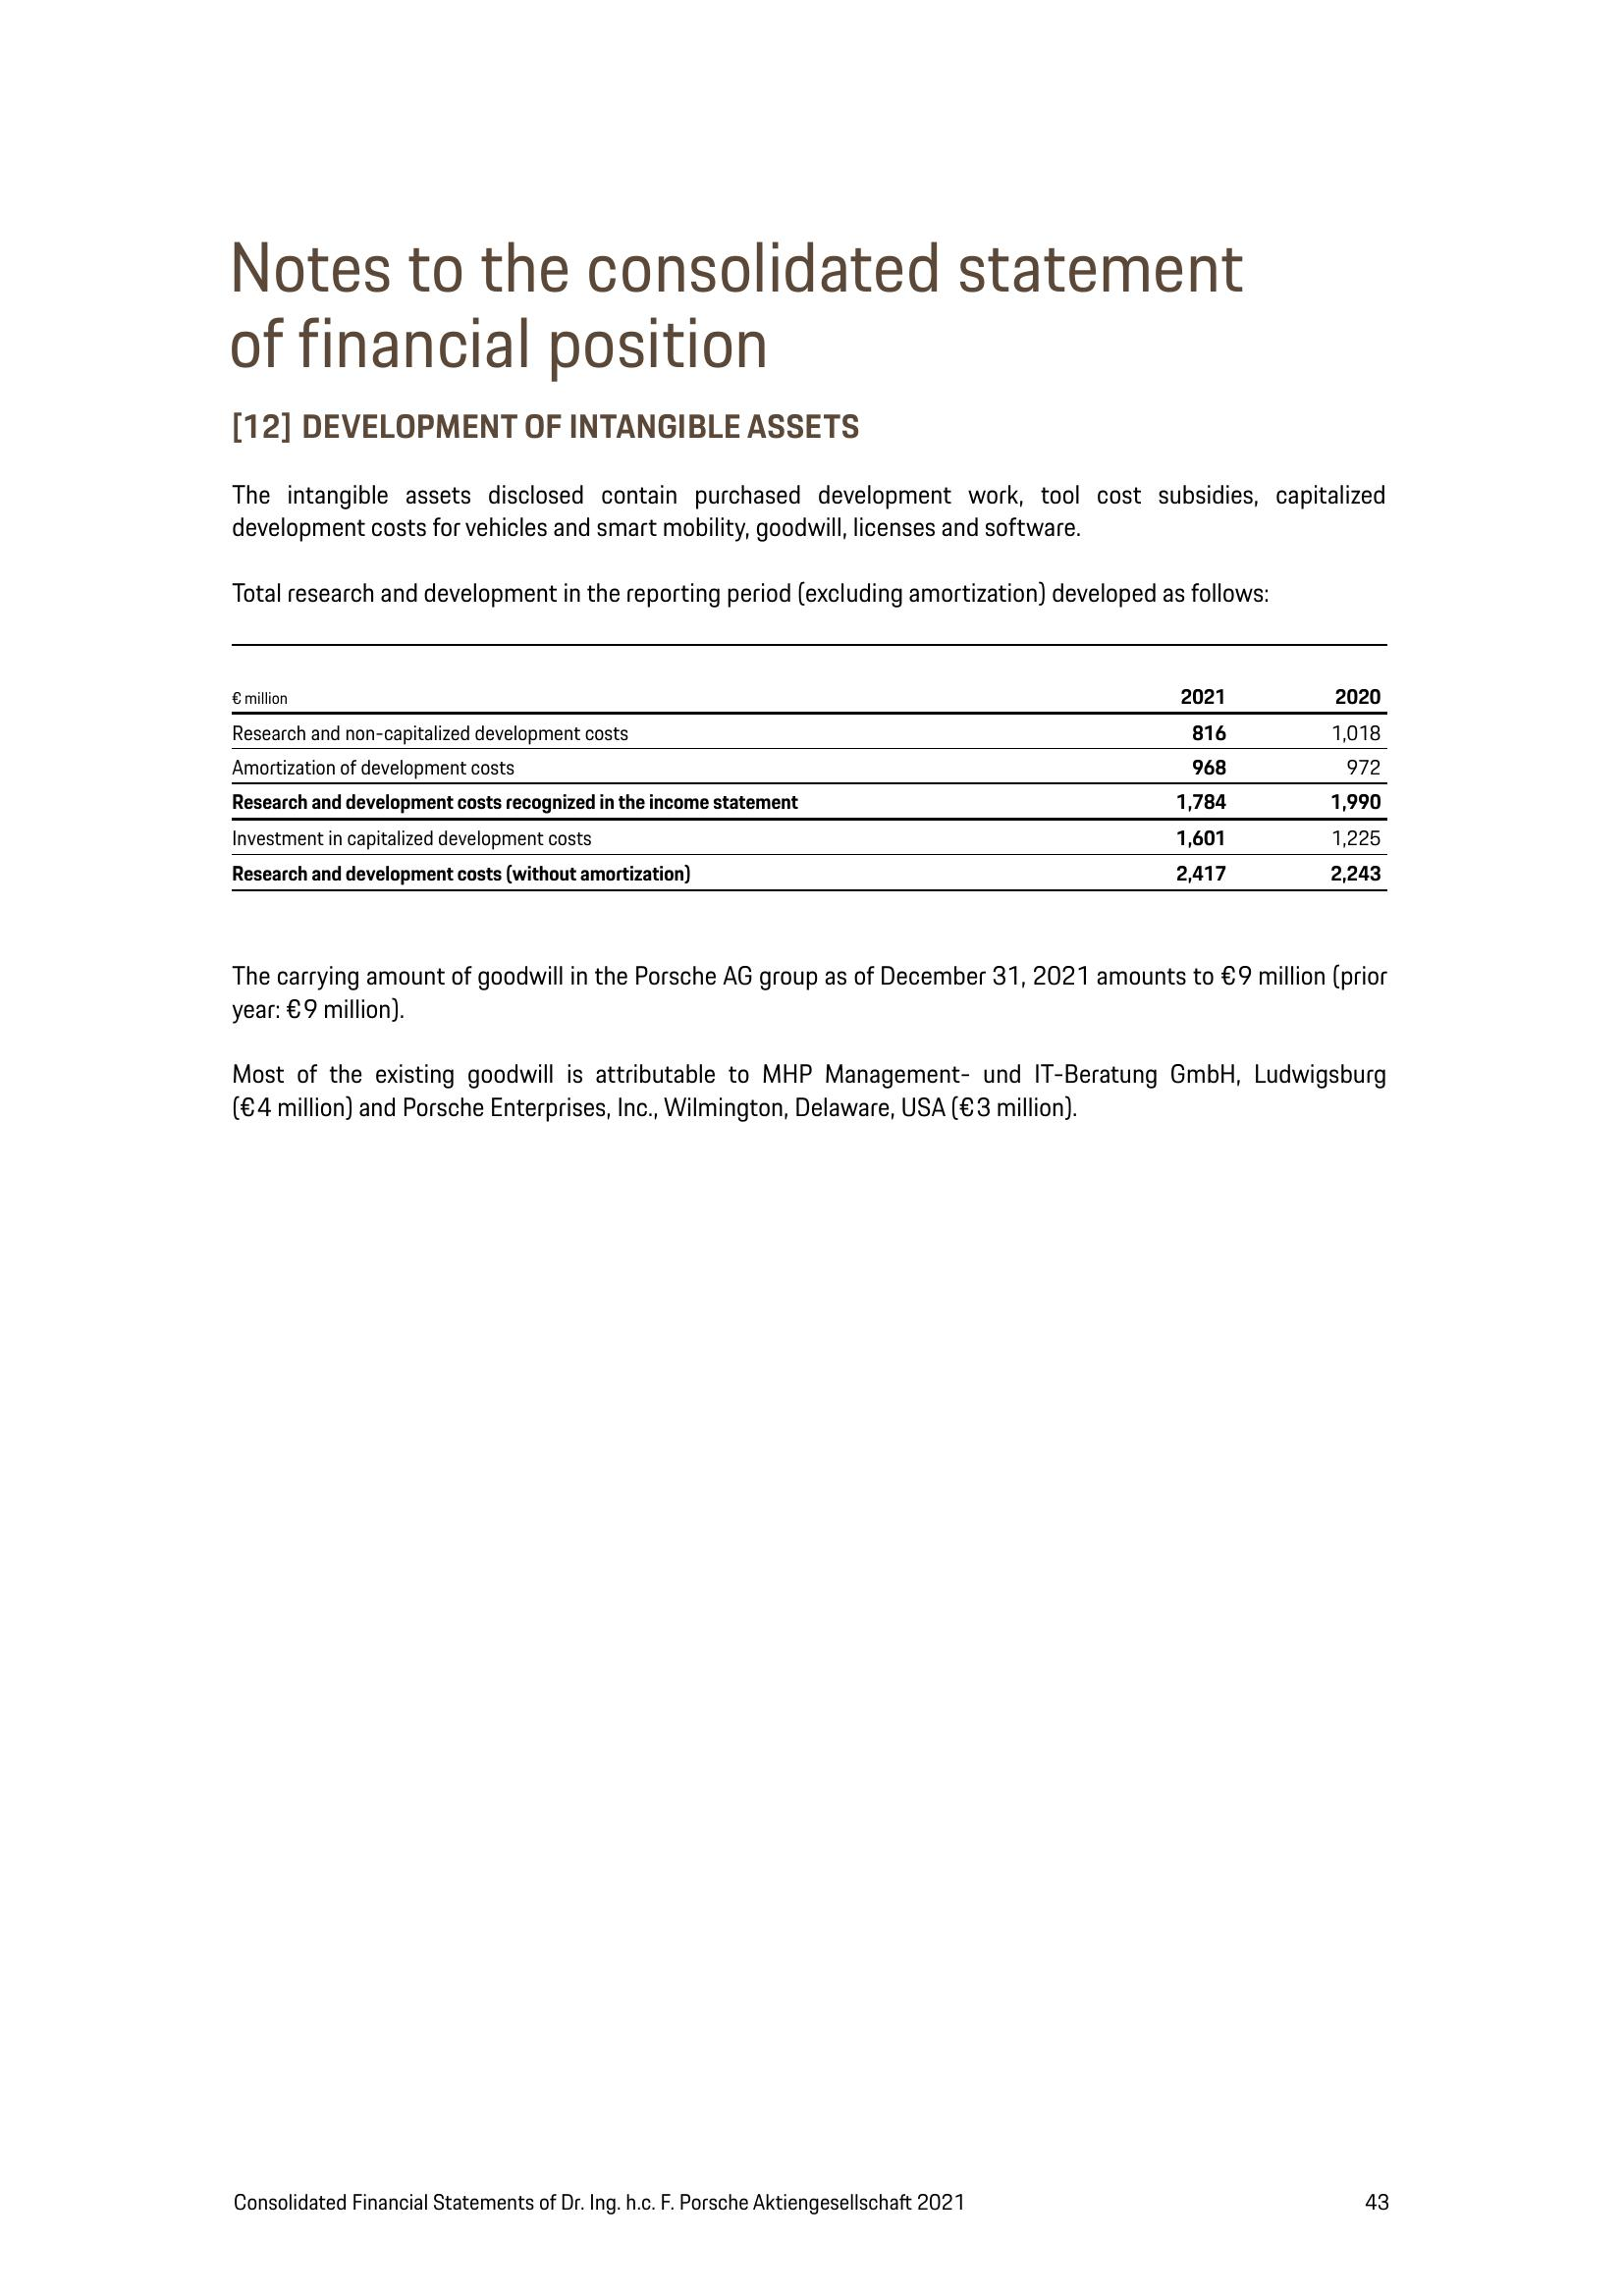Footer: (0, 2148, 1624, 2296)
Header: (0, 0, 1624, 183)
Table: (181, 622, 1425, 917)
